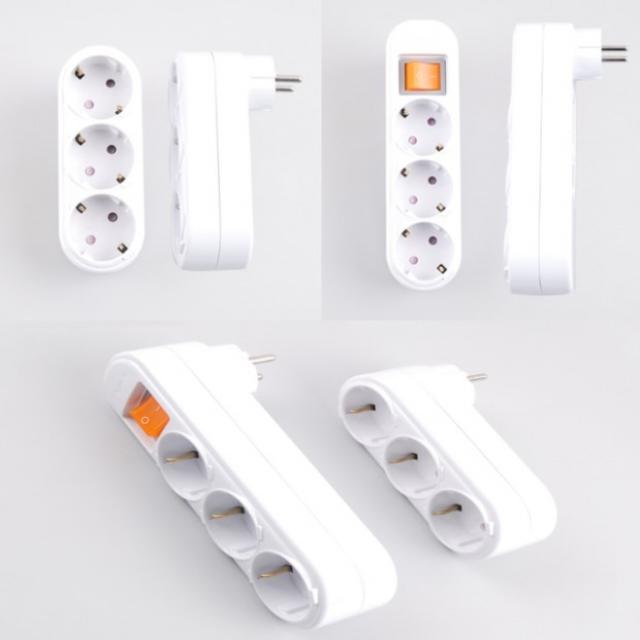typeb: (63, 334, 319, 634), (39, 29, 166, 304), (381, 5, 493, 301)
